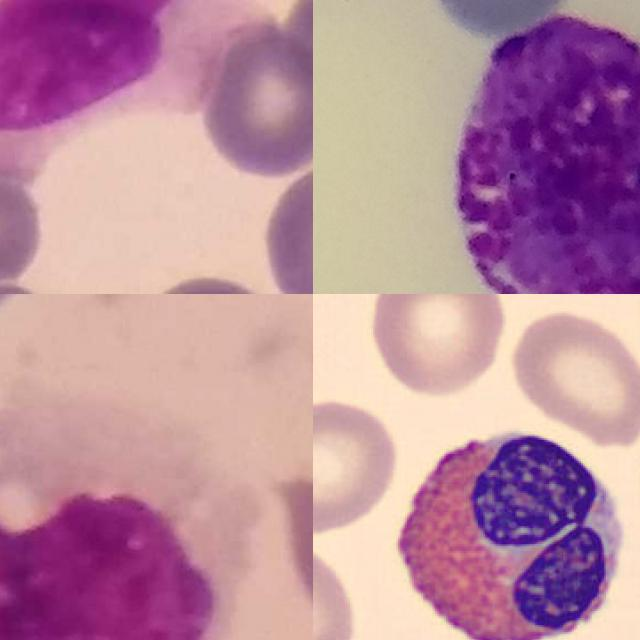Basophil: (455, 13, 640, 294)
Eosinophil: (378, 418, 634, 640)
Monocyte: (0, 391, 241, 640), (0, 0, 261, 182)
RBC: (506, 304, 640, 445), (362, 294, 509, 399), (313, 392, 403, 538), (313, 538, 362, 640)
